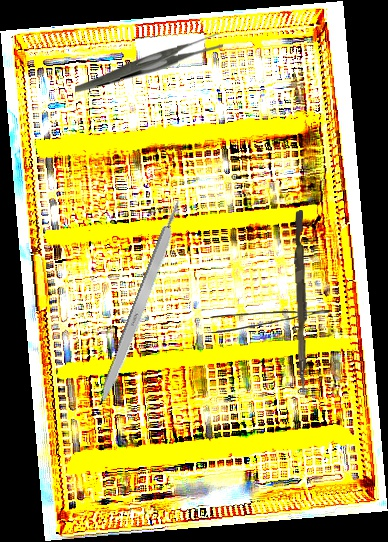Dressing Forceps: (74, 32, 224, 93)
Pusher: (290, 210, 313, 394)
Scalpel Handle: (95, 198, 188, 409)
Tissue Forceps: (210, 310, 330, 333)
